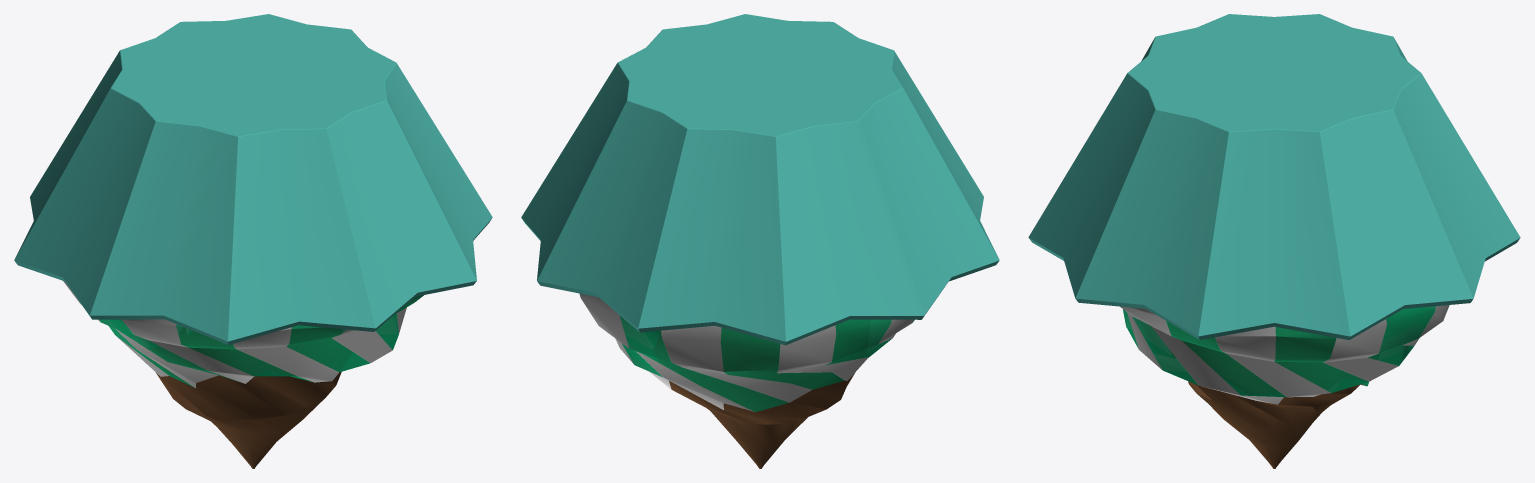
Rendered from cupcake.fbx.
The picture shows the model from 3 angles, left to right: view 1: azimuth 30°, elevation 25°; view 2: azimuth 150°, elevation 25°; view 3: azimuth 270°, elevation 25°; orthographic projection.
Visible parts, largest first — view 1: pCylinder2; view 2: pCylinder2; view 3: pCylinder2.
Boxes of the visible parts, box(x1,y1,x2,y2) form: pCylinder2: box(14, 14, 492, 468); pCylinder2: box(521, 14, 999, 468); pCylinder2: box(1028, 14, 1520, 468).
Size of the model in its own units: 14.18 by 13.21 by 14.9.
